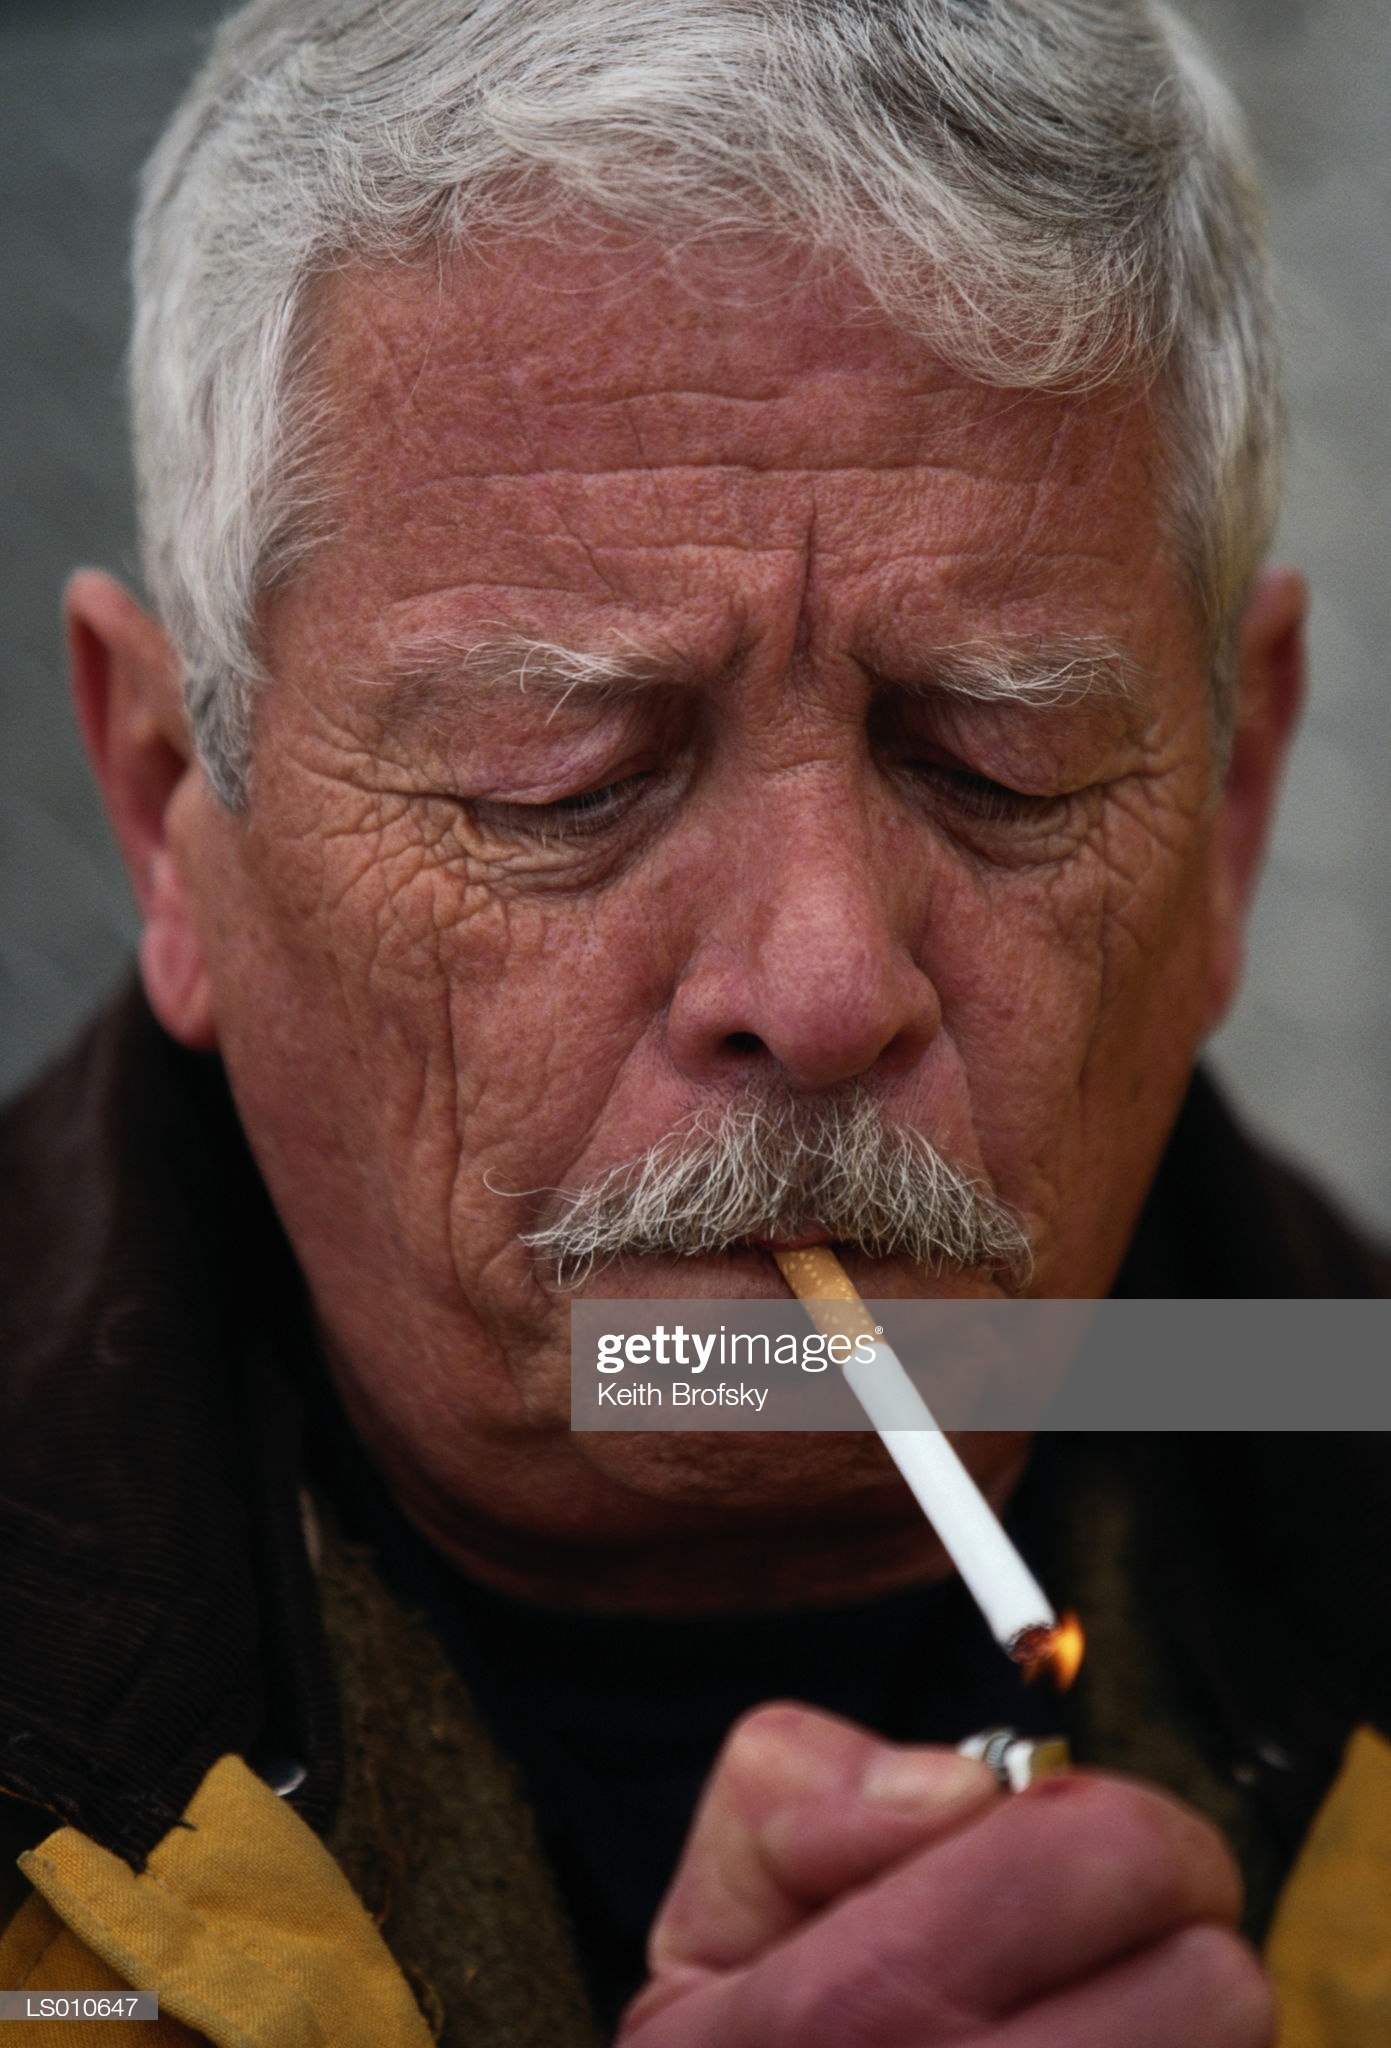sigaretta: (778, 1203, 1105, 1689)
